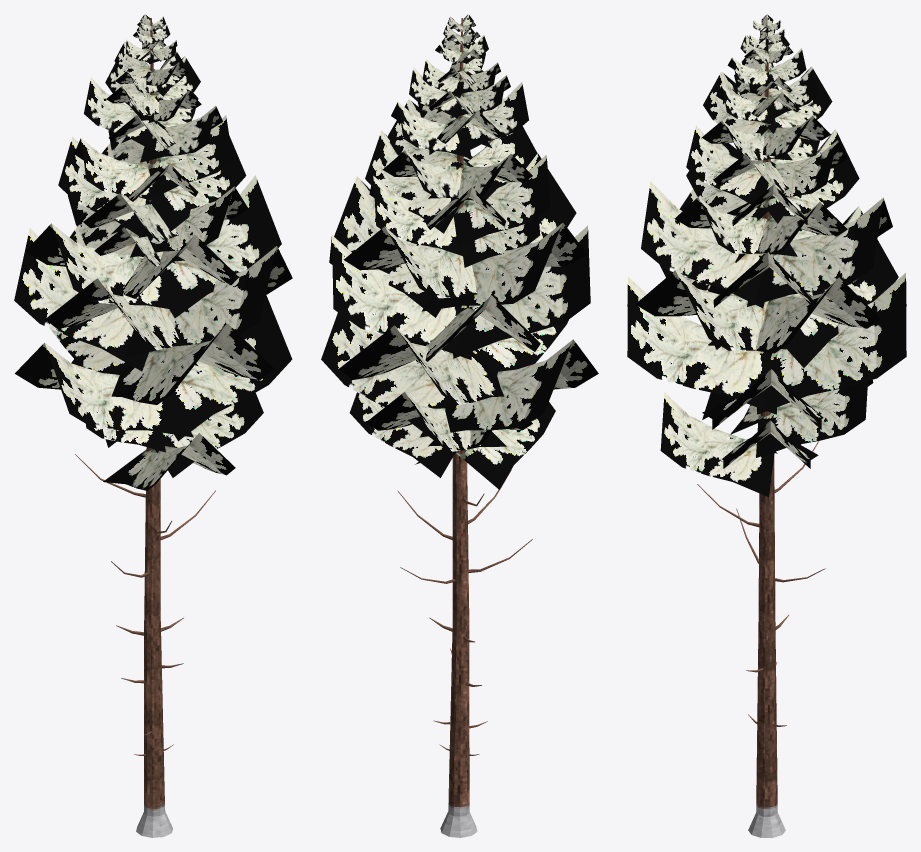
File: Дерево3.fbx
The picture shows the model from 3 angles, left to right: view 1: azimuth 30°, elevation 25°; view 2: azimuth 150°, elevation 25°; view 3: azimuth 270°, elevation 25°; orthographic projection.
Visible parts, largest first — view 1: Листва ели.043; view 2: Листва ели.043; view 3: Листва ели.043.
Part boxes in pixels (<box>): Листва ели.043: <box>14,14,292,837</box>; Листва ели.043: <box>321,14,598,837</box>; Листва ели.043: <box>627,14,906,837</box>.
Size of the model in its own units: 1806 by 5858 by 1829.
